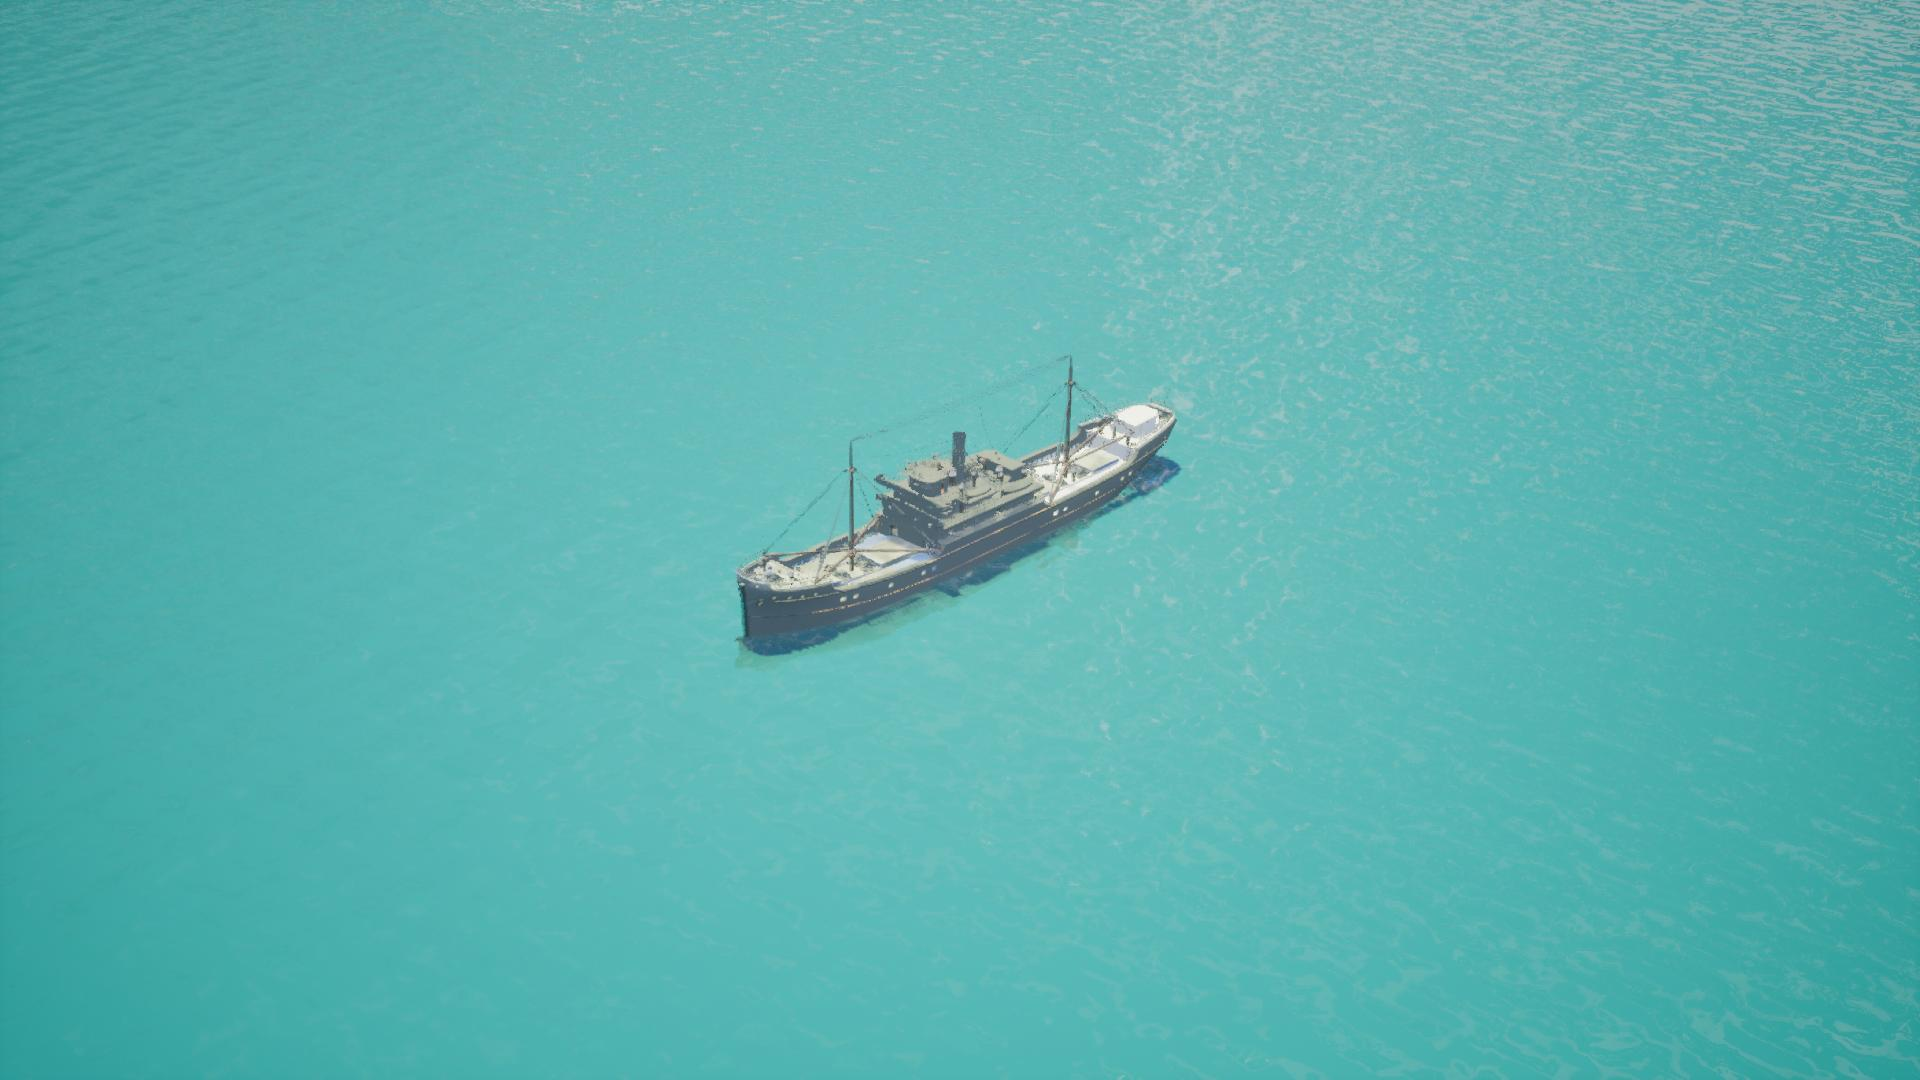Fishing Boat: (729, 399, 1187, 658)
